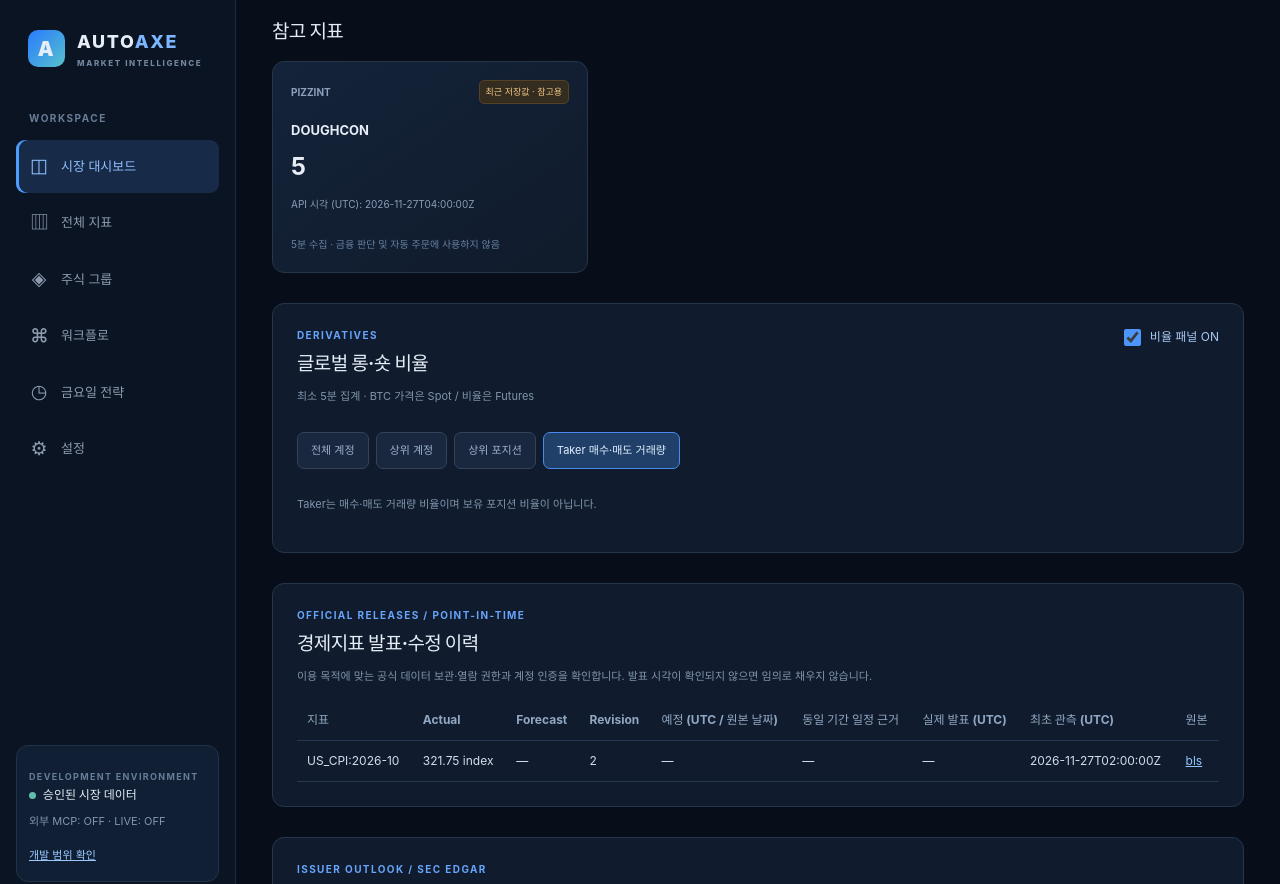
Test case: only authorized, permission-gated official events appear separately
(page scrolled)
Expected: the text "US_CPI:2026-10" is shown, [297,741,413,782]
Expected: the text "321.75 index" is shown, [413,741,506,782]
Click the button "전체 계정" at (333, 450), box [297,432,369,469]
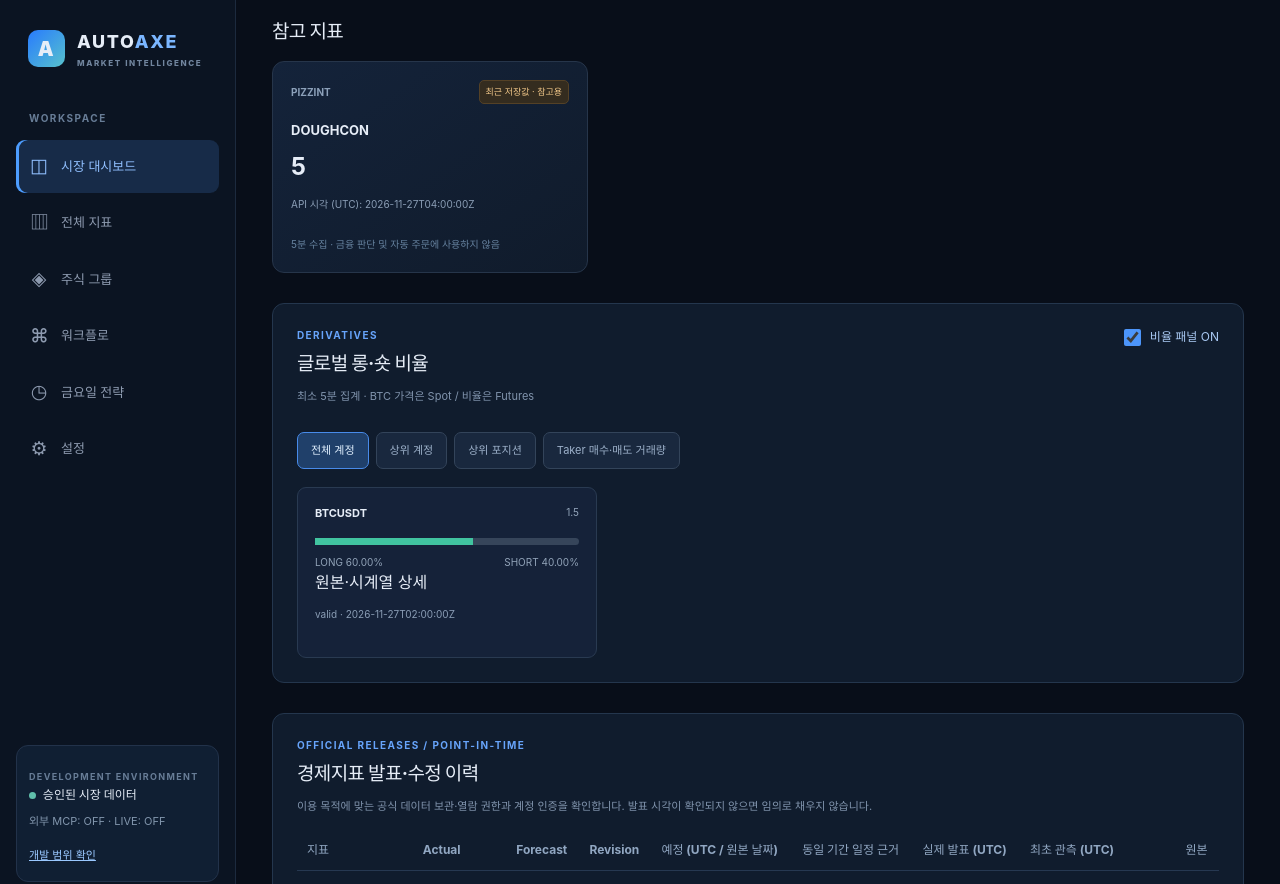
Now the text "LONG 60.00%" is shown, box [315,555,383,570]
Now the text "SHORT 40.00%" is shown, box [504,555,579,570]
